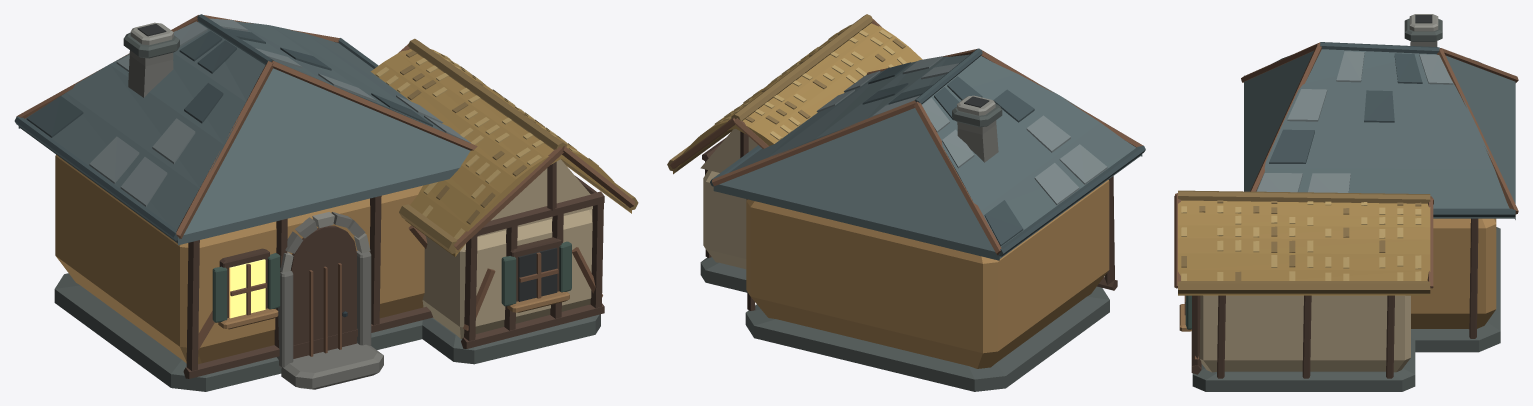
File: BLD_V3_Farmstead_LWing.glb
3 views of the same model, side by side, from view 1: azimuth 30°, elevation 25°; view 2: azimuth 150°, elevation 25°; view 3: azimuth 270°, elevation 25° (orthographic). The views are drawn at different scales.
Parts seen in each view (by area): view 1: BLD_V3_Farmstead_LWing; view 2: BLD_V3_Farmstead_LWing; view 3: BLD_V3_Farmstead_LWing.
Boxes of the visible parts, <box> form: BLD_V3_Farmstead_LWing: <box>14,14,638,391</box>; BLD_V3_Farmstead_LWing: <box>667,14,1145,391</box>; BLD_V3_Farmstead_LWing: <box>1174,14,1518,391</box>.
Bounding box in the file's own units: 4.82 × 3.1 × 3.96.
